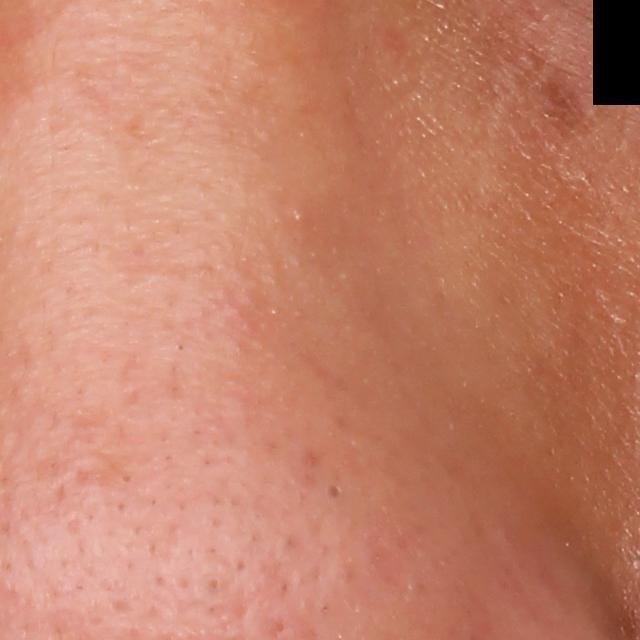comedo: (323, 481, 348, 502)
melasma: (532, 52, 589, 130)
